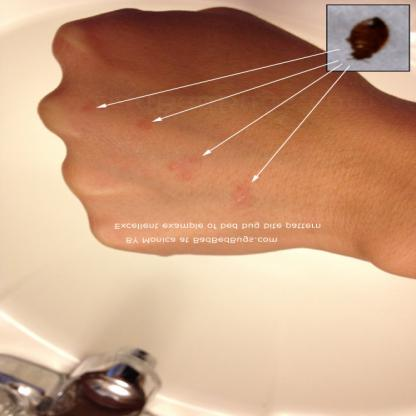Bed Bug: (162, 154, 198, 184), (224, 184, 254, 212), (133, 114, 152, 134), (77, 102, 99, 116)
